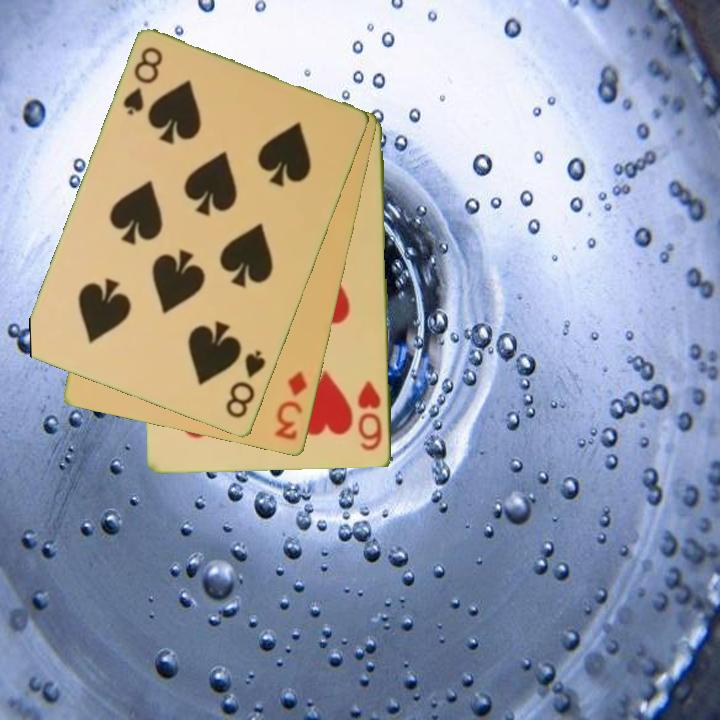3d: (271, 367, 311, 444)
6h: (354, 378, 386, 454)
8s: (222, 347, 269, 422), (119, 44, 166, 119)
